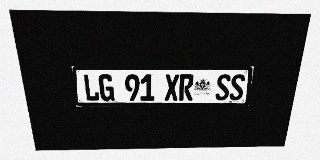1: (140, 74, 154, 101)
9: (125, 74, 140, 101)
G: (98, 74, 115, 101)
L: (83, 74, 100, 101)
R: (179, 74, 194, 101)
S: (229, 74, 246, 100), (215, 74, 231, 100)
X: (165, 74, 179, 101)
